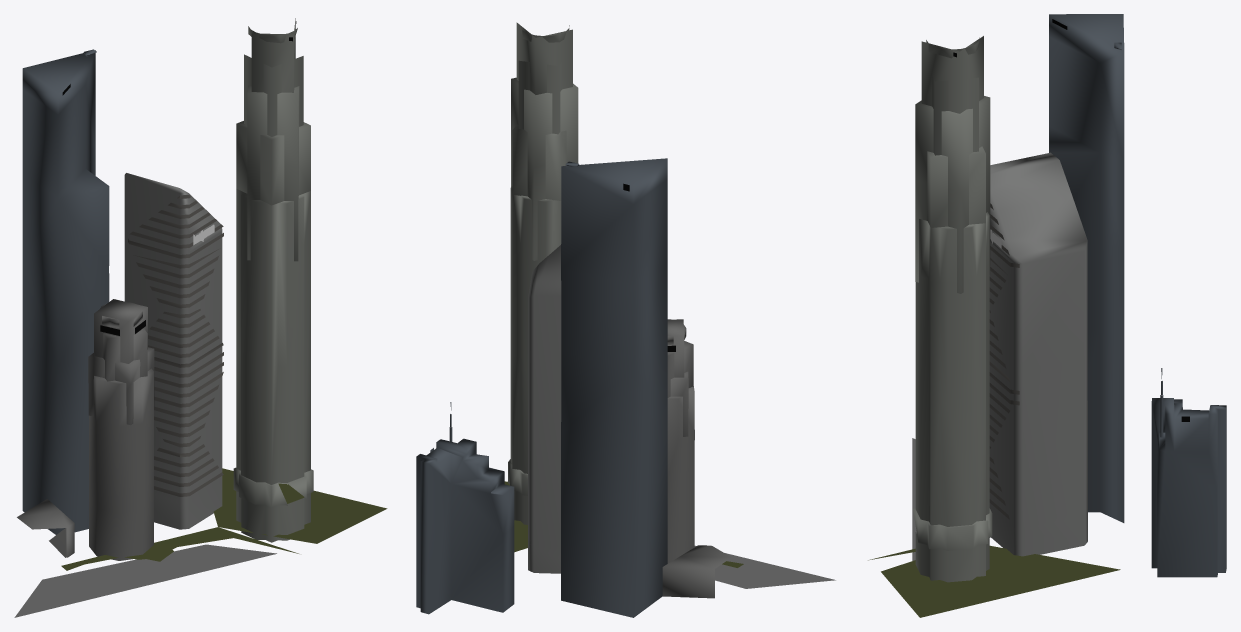
The picture shows the model from 3 angles, left to right: view 1: azimuth 30°, elevation 25°; view 2: azimuth 150°, elevation 25°; view 3: azimuth 270°, elevation 25°; orthographic projection. The views are drawn at different scales.
Parts seen in each view (by area): view 1: merged__lod1; view 2: merged__lod1; view 3: merged__lod1.
Part boxes in pixels (bbox=[...]): merged__lod1: bbox=[14, 18, 387, 617]; merged__lod1: bbox=[416, 22, 835, 617]; merged__lod1: bbox=[868, 14, 1226, 617].
Size of the model in its own units: 265 by 343 by 206.
